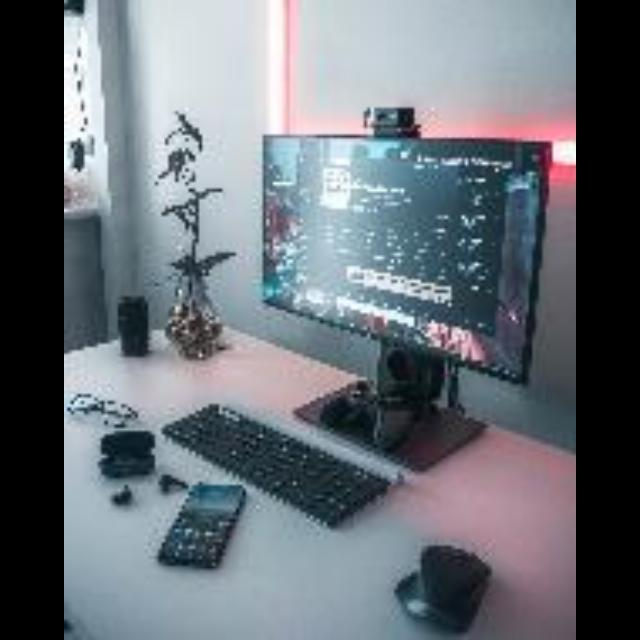Phone: (155, 485, 249, 565)
